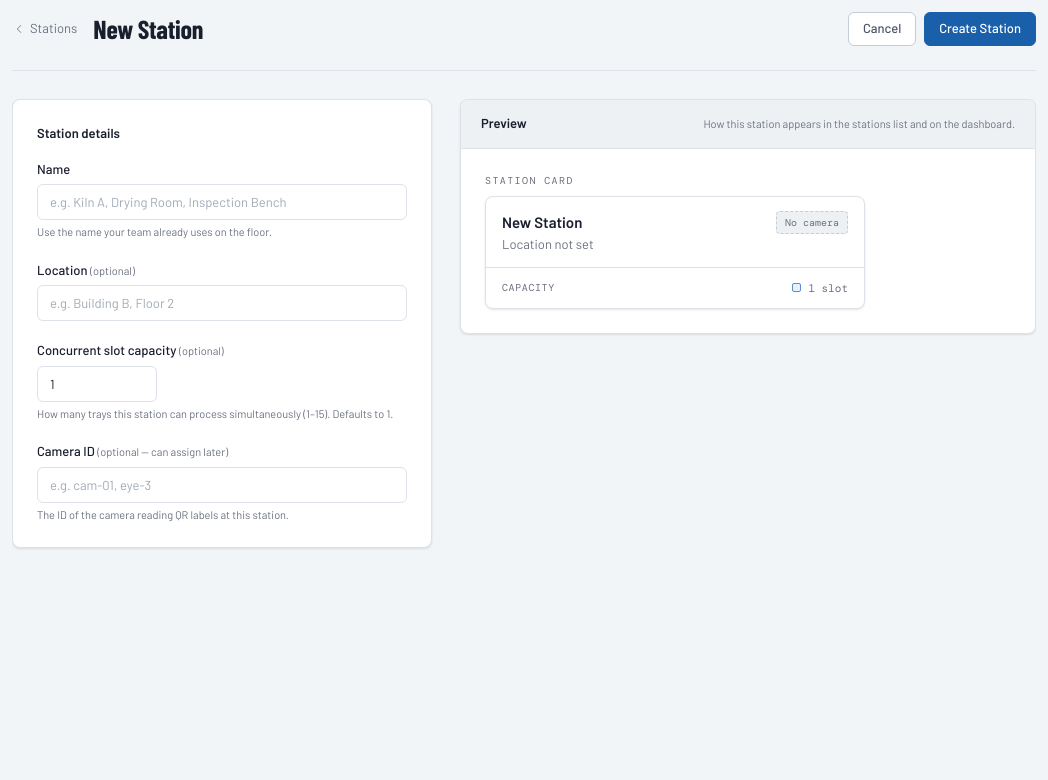
NewStationView › should show validation error when name is empty
Click the button "Create Station": (980, 29) [924, 12, 1036, 46]
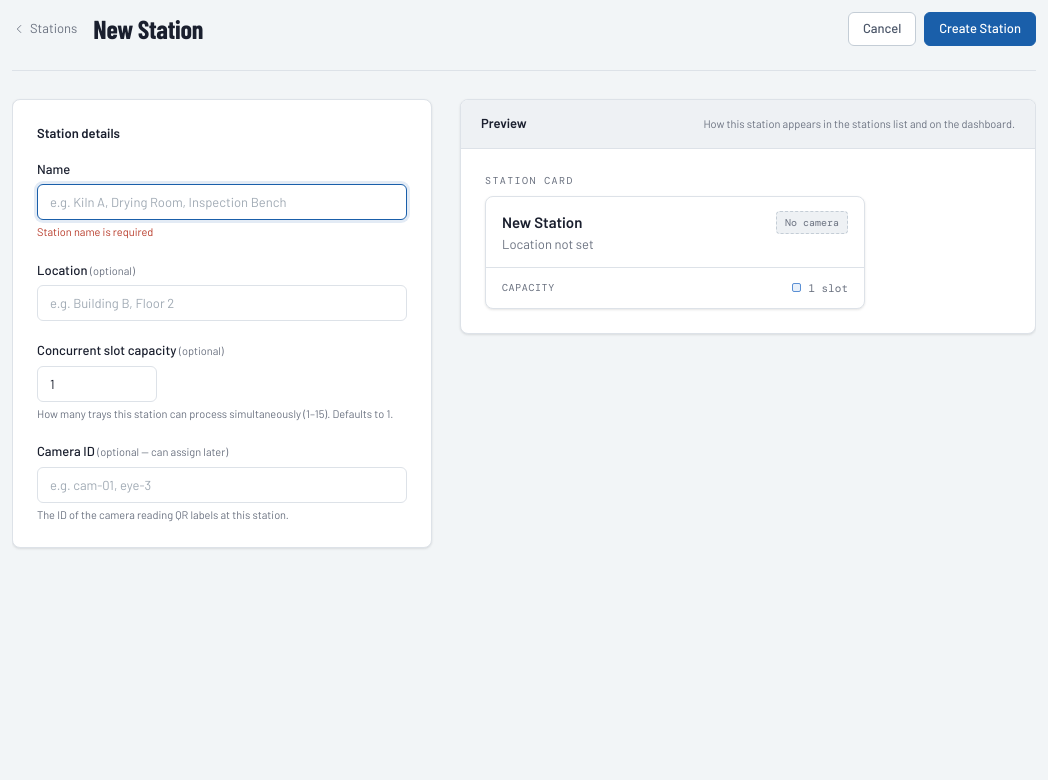
Expected: the text "Station name is required" is shown, [37, 225, 153, 238]
